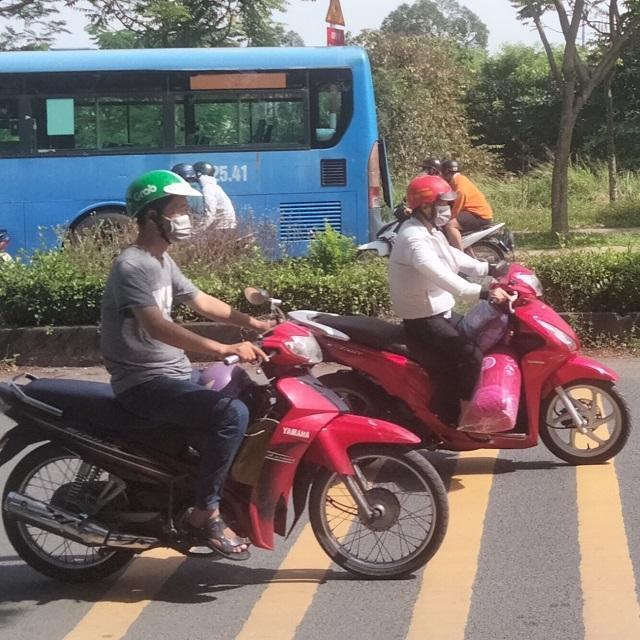Helmet: (124, 170, 196, 247), (404, 172, 456, 230)
